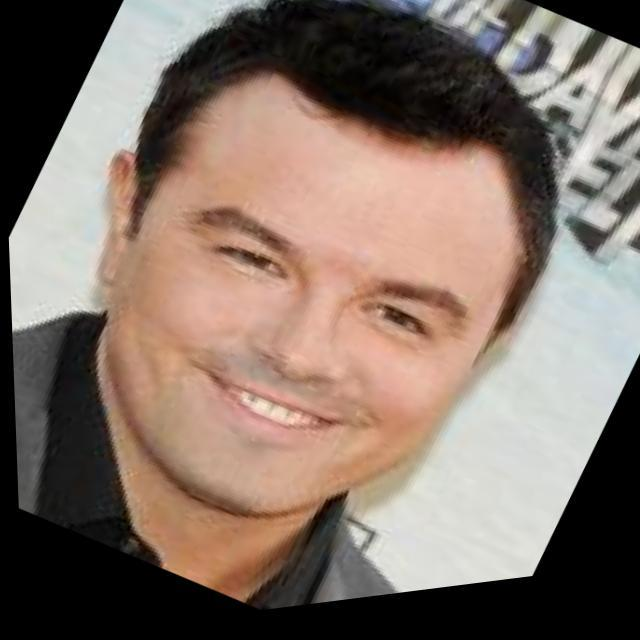Nonhelmet: (95, 0, 570, 521)
